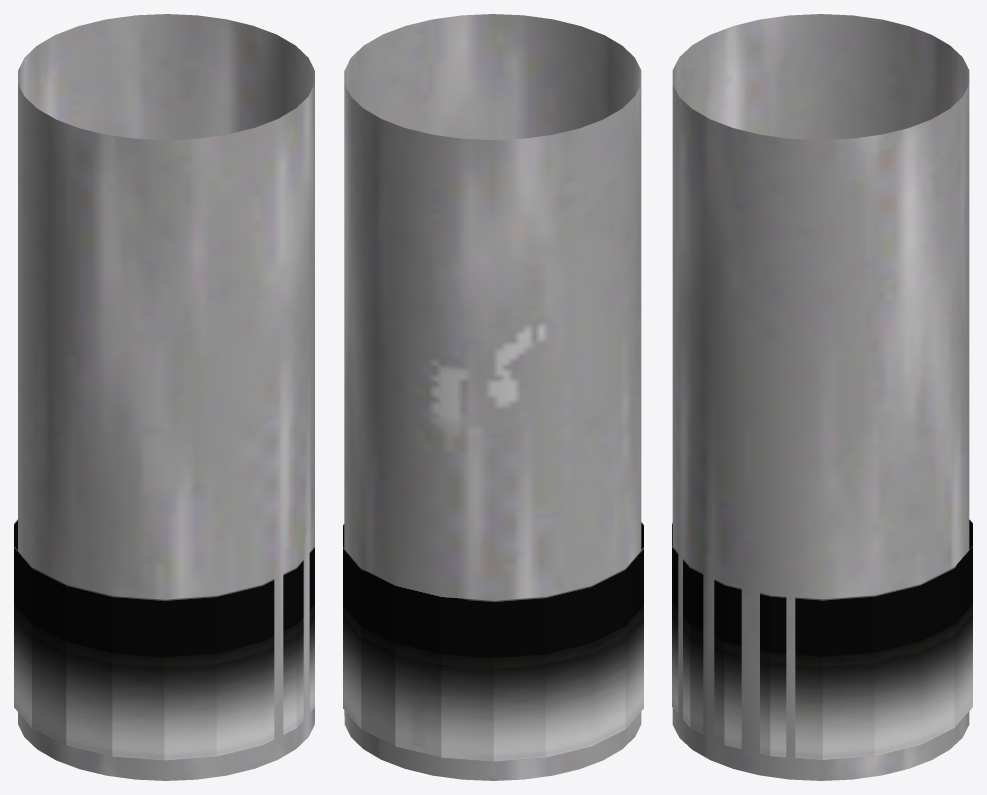
The model's file is donghua #2993102.fbx.
3 views of the same model, side by side, from view 1: azimuth 30°, elevation 25°; view 2: azimuth 150°, elevation 25°; view 3: azimuth 270°, elevation 25° (orthographic).
Visible parts, largest first — view 1: donghua; view 2: donghua; view 3: donghua.
Boxes of the visible parts, x1,y1,x2,y2 form: donghua: [14, 14, 314, 780]; donghua: [343, 14, 643, 780]; donghua: [672, 14, 972, 780].
Bounding box in the file's own units: 2.08 × 4.82 × 2.05.
